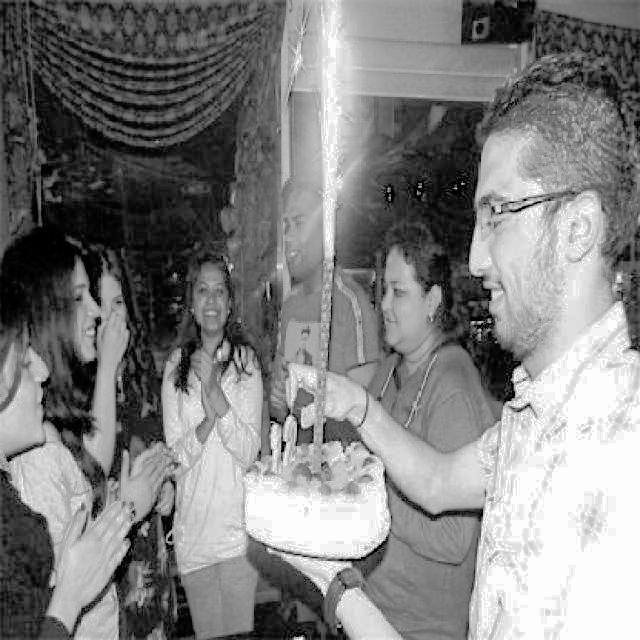Person: (286, 44, 640, 640), (2, 226, 173, 640), (360, 217, 503, 628), (159, 251, 268, 640), (270, 167, 383, 413)
